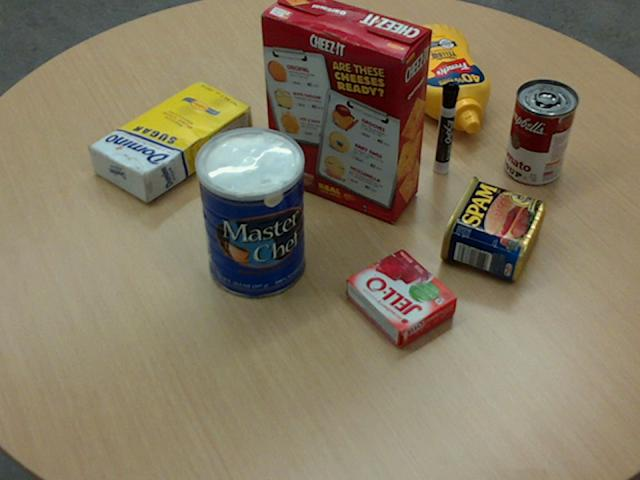cracker_box: (260, 0, 430, 222)
gelatin_box: (346, 248, 458, 347)
large_marker: (433, 81, 459, 173)
master_chef_can: (194, 126, 304, 298)
mug: (297, 32, 373, 124)
mustard_bottle: (392, 24, 490, 133)
potted_meat_can: (438, 175, 544, 279)
sugar_box: (87, 79, 252, 201)
tomato_soup_can: (504, 78, 577, 184)
tuna_fish_can: (321, 21, 384, 76)
